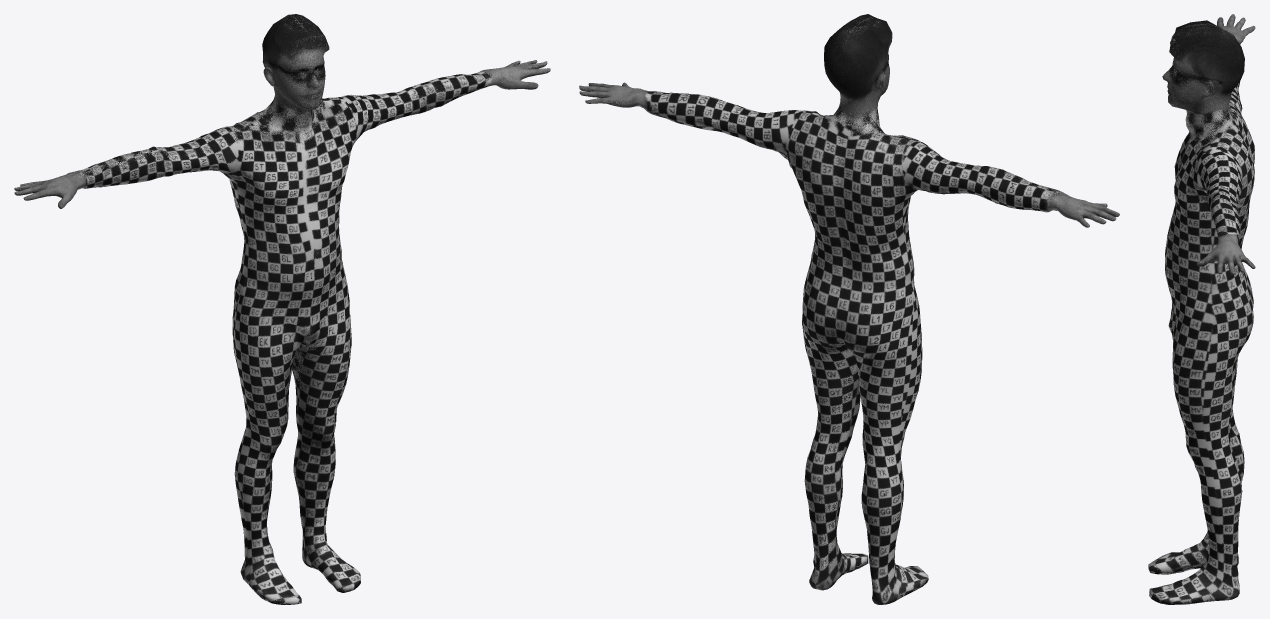
The model's file is SMPLWithSocks_dimmer.obj.
The picture shows the model from 3 angles, left to right: view 1: azimuth 30°, elevation 25°; view 2: azimuth 150°, elevation 25°; view 3: azimuth 270°, elevation 25°; orthographic projection.
Parts seen in each view (by area): view 1: m_avg_Mesh; view 2: m_avg_Mesh; view 3: m_avg_Mesh.
Boxes of the visible parts, x1,y1,x2,y2 form: m_avg_Mesh: (14, 14, 550, 604); m_avg_Mesh: (579, 14, 1119, 604); m_avg_Mesh: (1148, 14, 1255, 604).
Bounding box in the file's own units: 1795 × 1810 × 314.
1 material, 1 textured.
